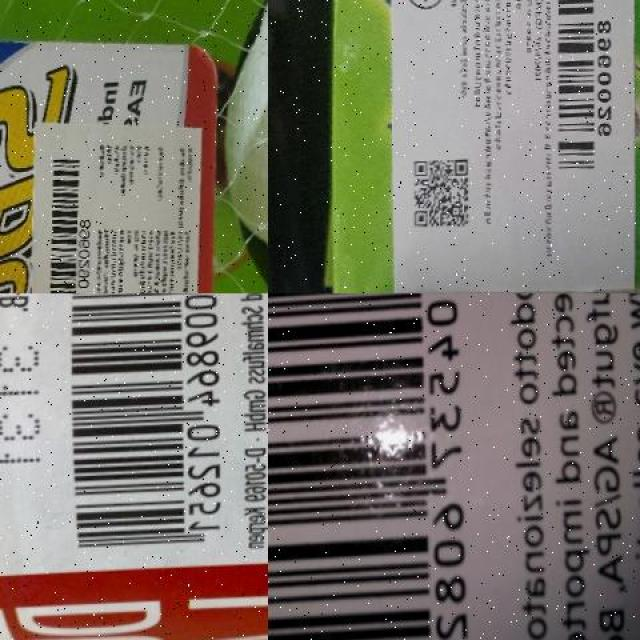Barcode: (268, 293, 477, 640), (47, 294, 236, 566), (548, 0, 610, 185), (37, 150, 91, 294)
